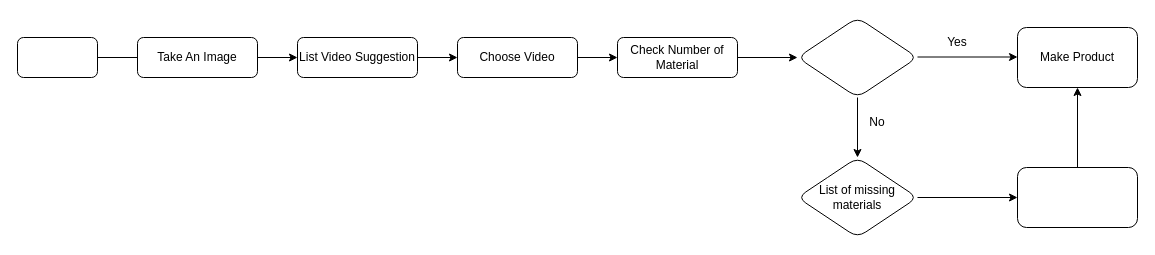
The diagram is 1155 pixels wide and 255 high, and some of its shapes have lost their labels. The shapes that lost their labels are listed below. From the top down, each one's box as (x1, y1, x2, y2) in pixels, then its label:
(16, 36, 98, 78): Start
(796, 16, 918, 98): Enough Material?
(1016, 166, 1138, 228): Take Missing Materials
